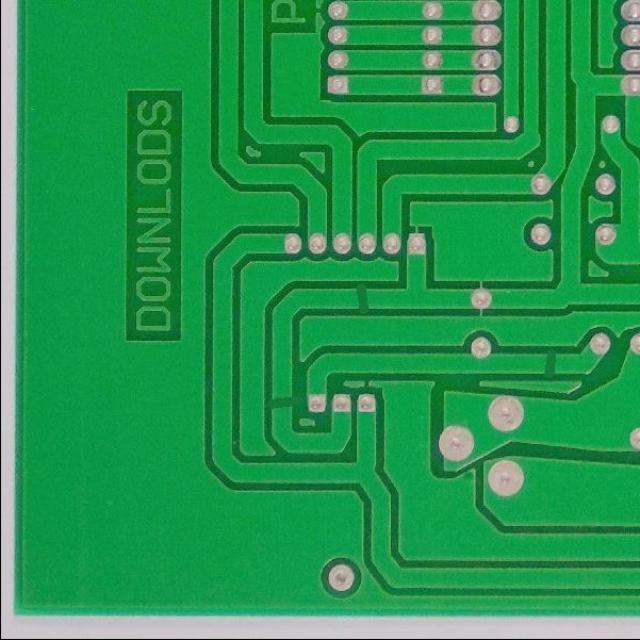Open_Circuit: (532, 338, 568, 388), (345, 272, 376, 322), (261, 388, 301, 419)
